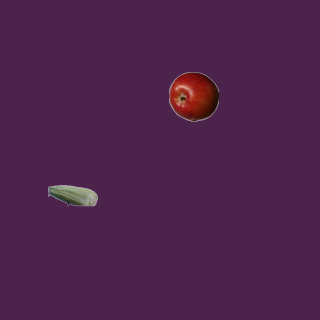Apple Braeburn: (168, 71, 218, 121)
Corn Husk: (47, 170, 97, 220)
